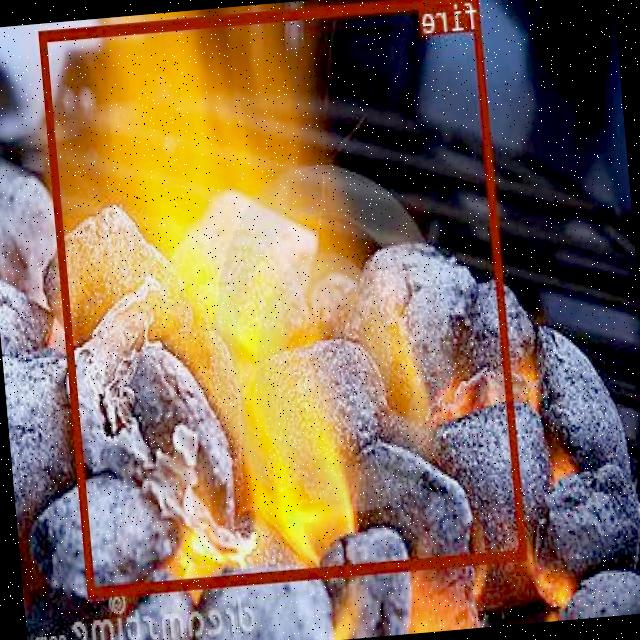fire: (40, 0, 527, 596)
